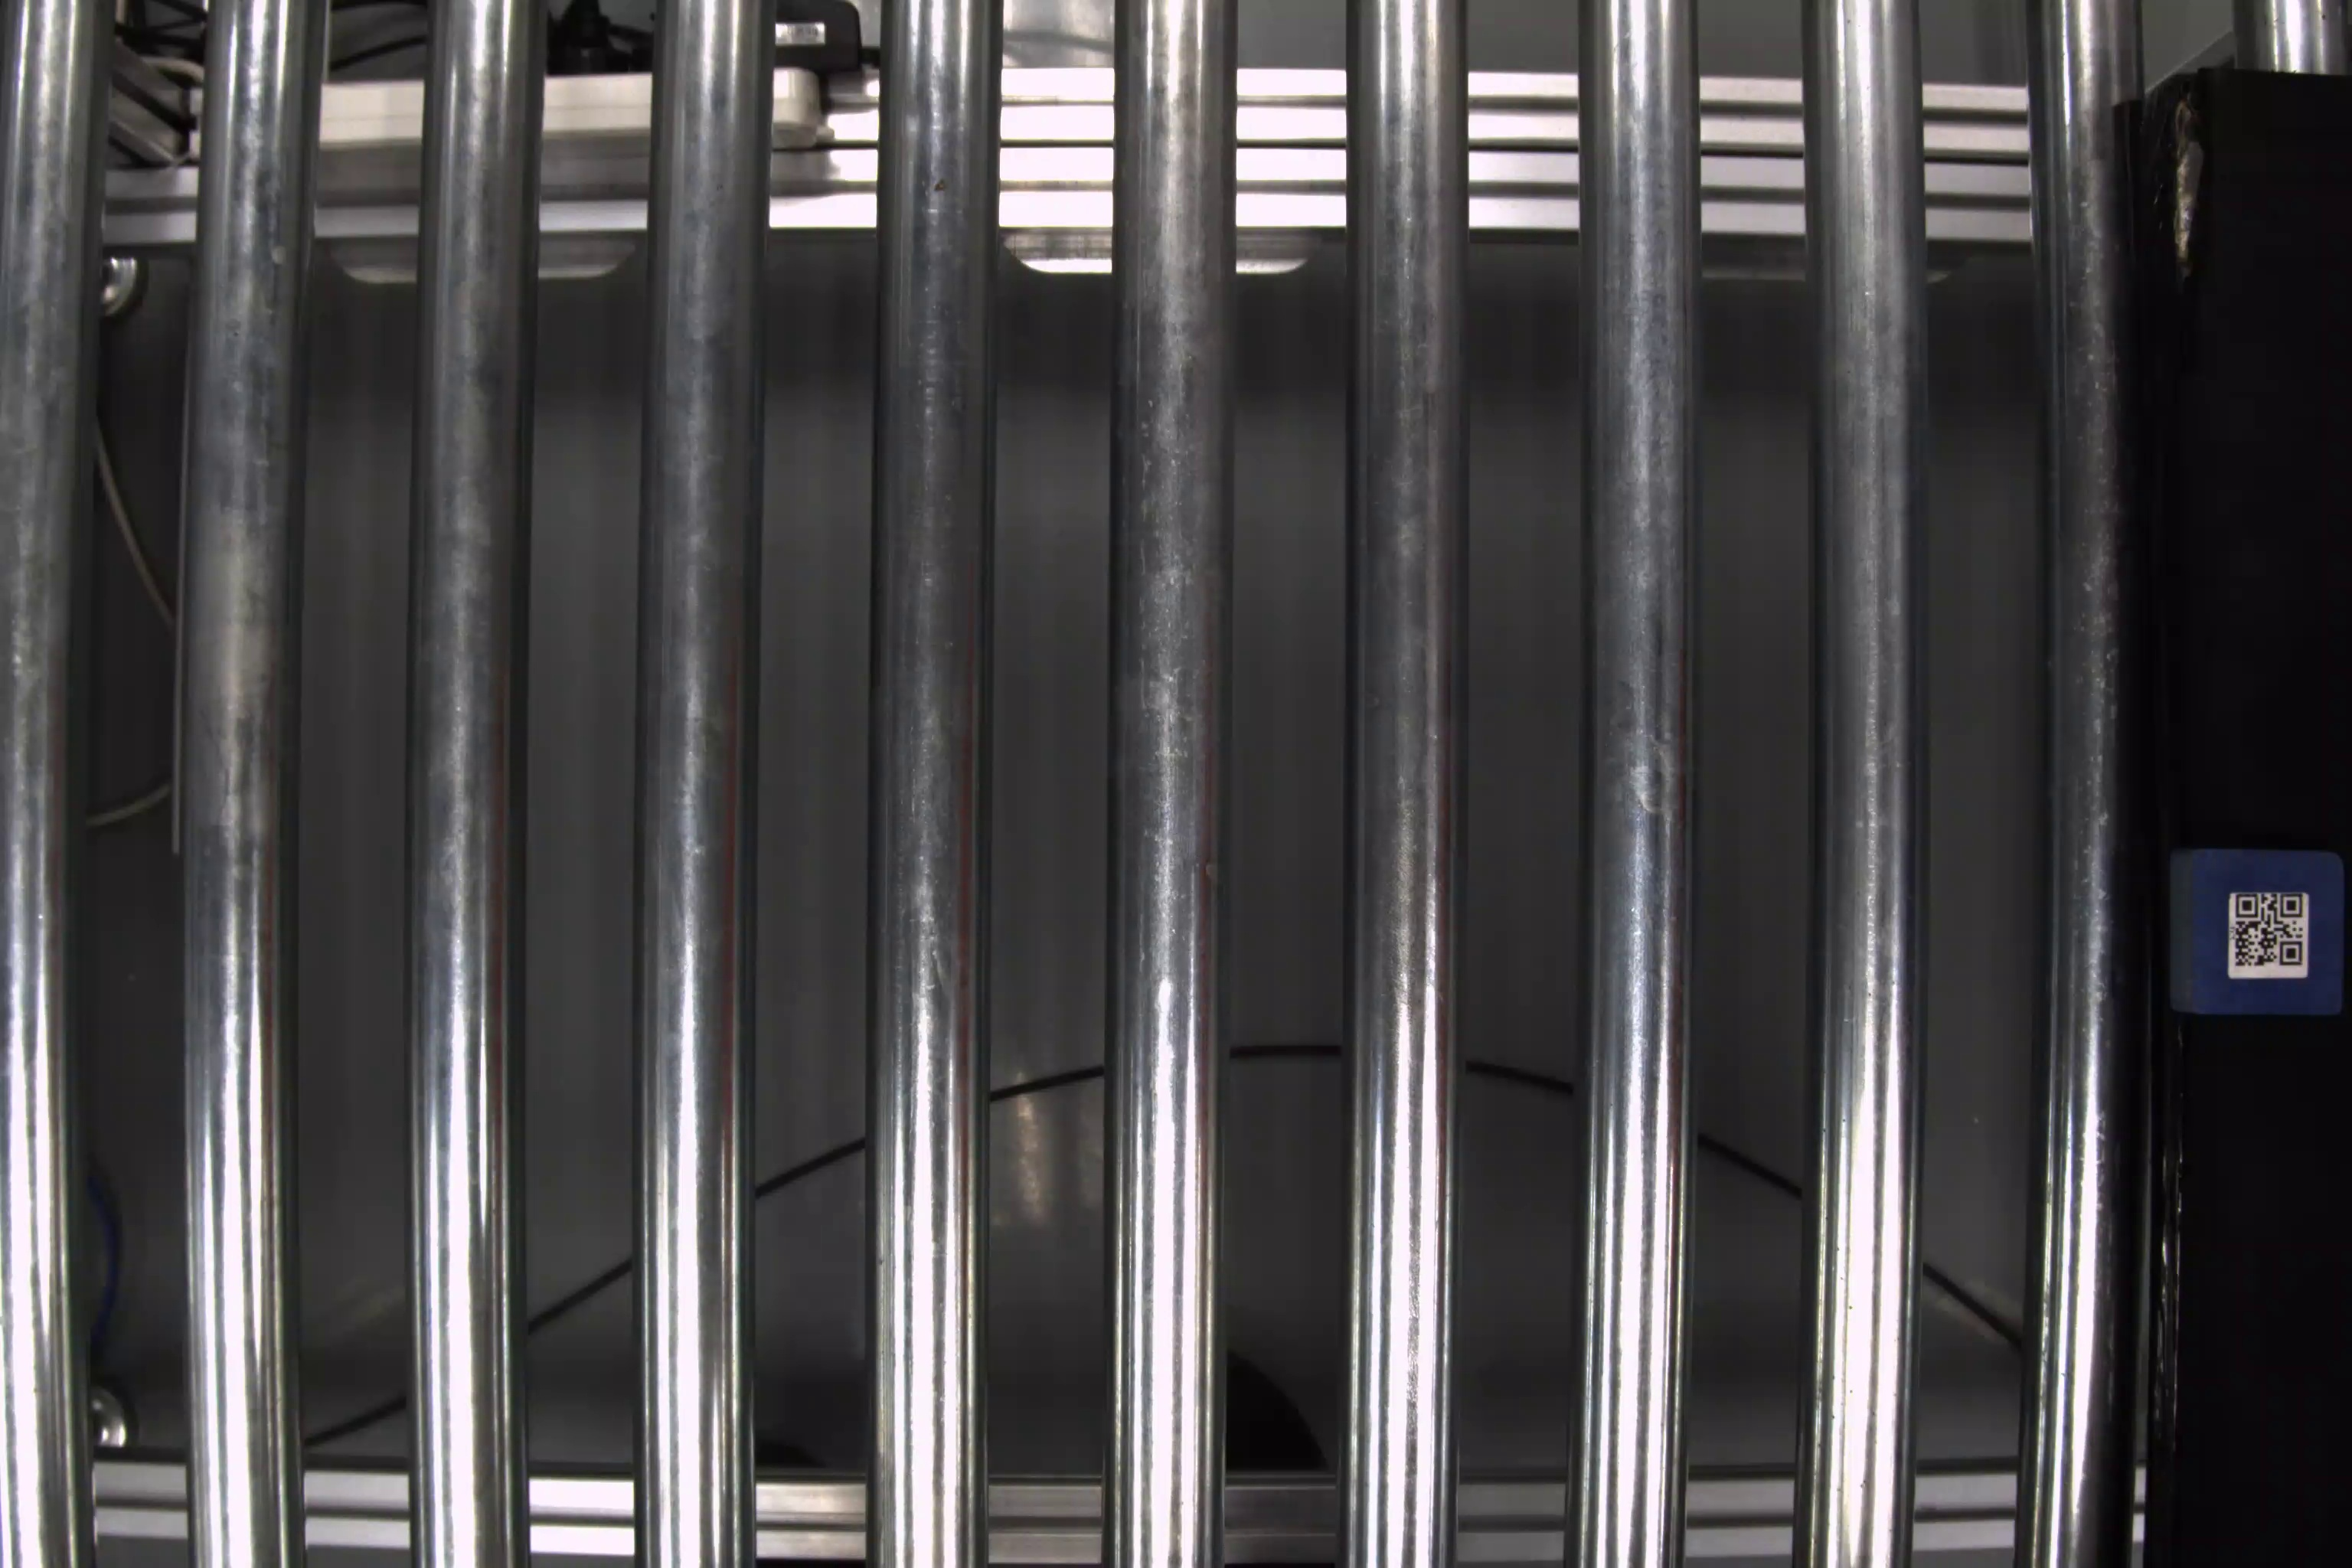wood: (2168, 843, 2350, 1027)
